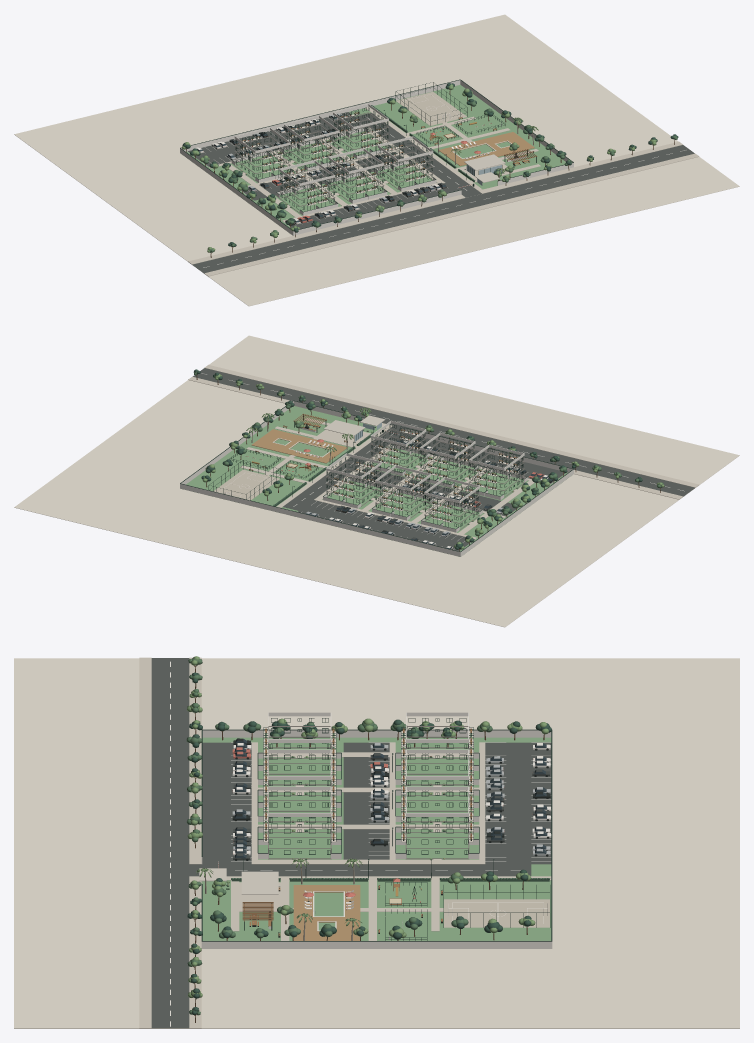
File: jardim-das-aguas-detalhes.glb
3 renders of one model, top to bottom at view 1: azimuth 30°, elevation 25°; view 2: azimuth 150°, elevation 25°; view 3: azimuth 270°, elevation 25°, orthographic. The views are drawn at different scales.
Parts seen in each view (by area): view 1: VIS__TERRENO, VIS__ENTORNO_ASFALTO, VIS__ENTORNO_GRAMA, VIS__ENTORNO_CALCADA, VIS__CAIXILHO, VIS__ENTORNO_MURO, VIS__FAIXAS, VIS__PLATIBANDA, VIS__QUINTAL_MURO, VIS__ENTORNO_MUSGO, VIS__ENTORNO_COPA1, VIS__ENTORNO_QUADRA_ENT (+9 smaller); view 2: VIS__TERRENO, VIS__ENTORNO_ASFALTO, VIS__ENTORNO_GRAMA, VIS__ENTORNO_CALCADA, VIS__CAIXILHO, VIS__ENTORNO_MURO, VIS__FAIXAS, VIS__PLATIBANDA, VIS__QUINTAL_MURO, VIS__ENTORNO_MUSGO, VIS__ENTORNO_COPA1, VIS__ENTORNO_COPA3 (+9 smaller); view 3: VIS__TERRENO, VIS__ENTORNO_ASFALTO, VIS__ENTORNO_GRAMA, VIS__ENTORNO_CALCADA, VIS__ENTORNO_MURO, VIS__PLATIBANDA, VIS__FAIXAS, VIS__CAIXILHO, VIS__ENTORNO_BRANCO, VIS__ENTORNO_COPA1, VIS__ENTORNO_COPA3, VIS__ENTORNO_QUADRA_ENT (+15 smaller).
Boxes of the visible parts, left/top/right/bottom form: VIS__TERRENO: left=14, top=14, right=739, bottom=306; VIS__ENTORNO_ASFALTO: left=188, top=112, right=694, bottom=273; VIS__ENTORNO_GRAMA: left=186, top=84, right=565, bottom=233; VIS__ENTORNO_CALCADA: left=188, top=107, right=699, bottom=276; VIS__CAIXILHO: left=235, top=107, right=432, bottom=210; VIS__ENTORNO_MURO: left=180, top=80, right=573, bottom=235; VIS__FAIXAS: left=234, top=112, right=433, bottom=213; VIS__PLATIBANDA: left=234, top=103, right=433, bottom=185; VIS__QUINTAL_MURO: left=231, top=128, right=436, bottom=215; VIS__ENTORNO_MUSGO: left=180, top=79, right=573, bottom=229; VIS__ENTORNO_COPA1: left=182, top=83, right=678, bottom=246; VIS__ENTORNO_QUADRA_ENT: left=396, top=92, right=466, bottom=125; VIS__TERRENO: left=14, top=335, right=739, bottom=627; VIS__ENTORNO_ASFALTO: left=193, top=368, right=694, bottom=551; VIS__ENTORNO_GRAMA: left=182, top=406, right=567, bottom=556; VIS__ENTORNO_CALCADA: left=188, top=365, right=698, bottom=539; VIS__CAIXILHO: left=326, top=424, right=523, bottom=527; VIS__ENTORNO_MURO: left=180, top=401, right=573, bottom=556; VIS__FAIXAS: left=326, top=429, right=524, bottom=530; VIS__PLATIBANDA: left=326, top=420, right=524, bottom=502; VIS__QUINTAL_MURO: left=323, top=445, right=527, bottom=532; VIS__ENTORNO_MUSGO: left=180, top=400, right=573, bottom=551; VIS__ENTORNO_COPA1: left=193, top=369, right=642, bottom=549; VIS__ENTORNO_COPA3: left=202, top=374, right=664, bottom=549; VIS__TERRENO: left=14, top=658, right=739, bottom=1028; VIS__ENTORNO_ASFALTO: left=151, top=658, right=551, bottom=1028; VIS__ENTORNO_GRAMA: left=201, top=737, right=551, bottom=940; VIS__ENTORNO_CALCADA: left=139, top=657, right=551, bottom=1028; VIS__ENTORNO_MURO: left=201, top=730, right=552, bottom=948; VIS__PLATIBANDA: left=268, top=712, right=468, bottom=816; VIS__FAIXAS: left=268, top=726, right=469, bottom=859; VIS__CAIXILHO: left=268, top=718, right=468, bottom=854; VIS__ENTORNO_BRANCO: left=170, top=661, right=551, bottom=1026; VIS__ENTORNO_COPA1: left=187, top=672, right=551, bottom=1014; VIS__ENTORNO_COPA3: left=187, top=656, right=548, bottom=997; VIS__ENTORNO_QUADRA_ENT: left=444, top=899, right=549, bottom=927.
Bounding box in the file's own units: 210 × 12.27 × 174.
